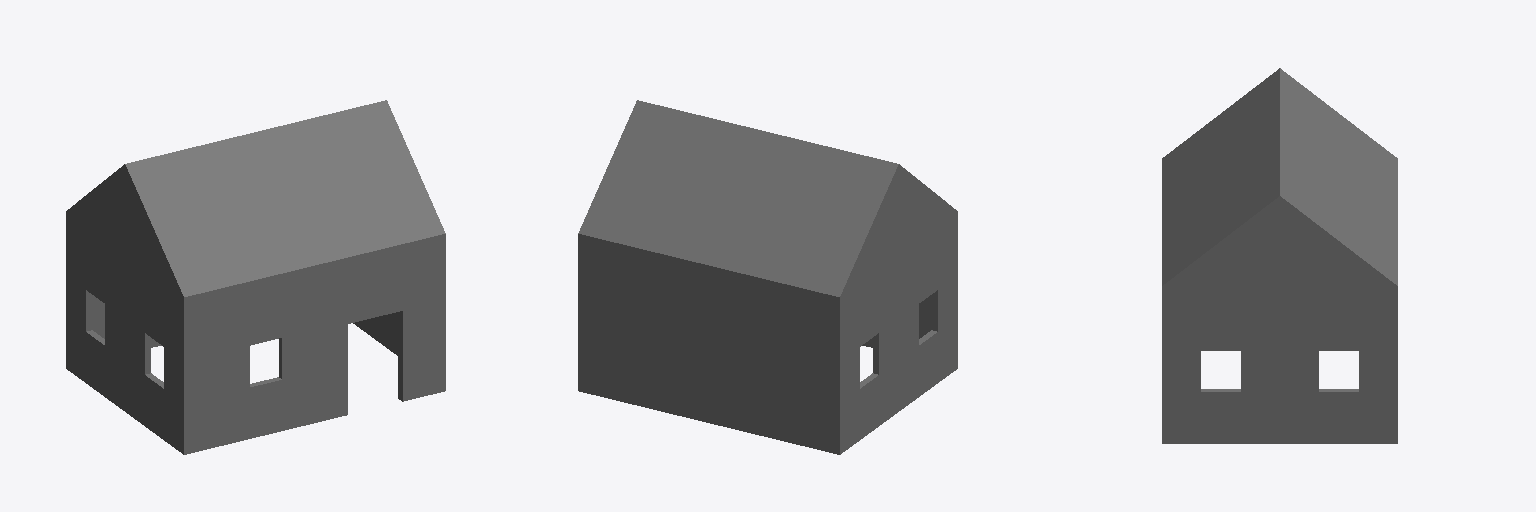
The model's file is construc.obj.
The picture shows the model from 3 angles: view 1: azimuth 30°, elevation 25°; view 2: azimuth 150°, elevation 25°; view 3: azimuth 270°, elevation 25°; orthographic projection.
Visible parts, largest first — view 1: Cube; view 2: Cube; view 3: Cube.
Boxes of the visible parts, x1,y1,x2,y2 form: Cube: [66, 100, 445, 454]; Cube: [578, 100, 957, 454]; Cube: [1162, 68, 1397, 443].
Bounding box in the file's own units: 4.02 × 3.64 × 3.14.